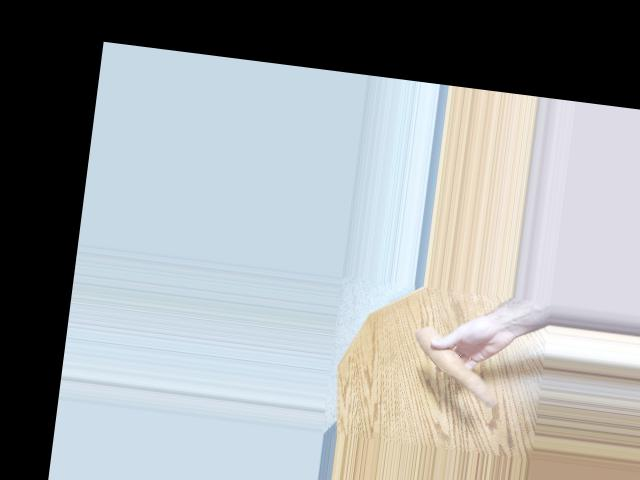sweet_potato: (415, 324, 504, 404)
